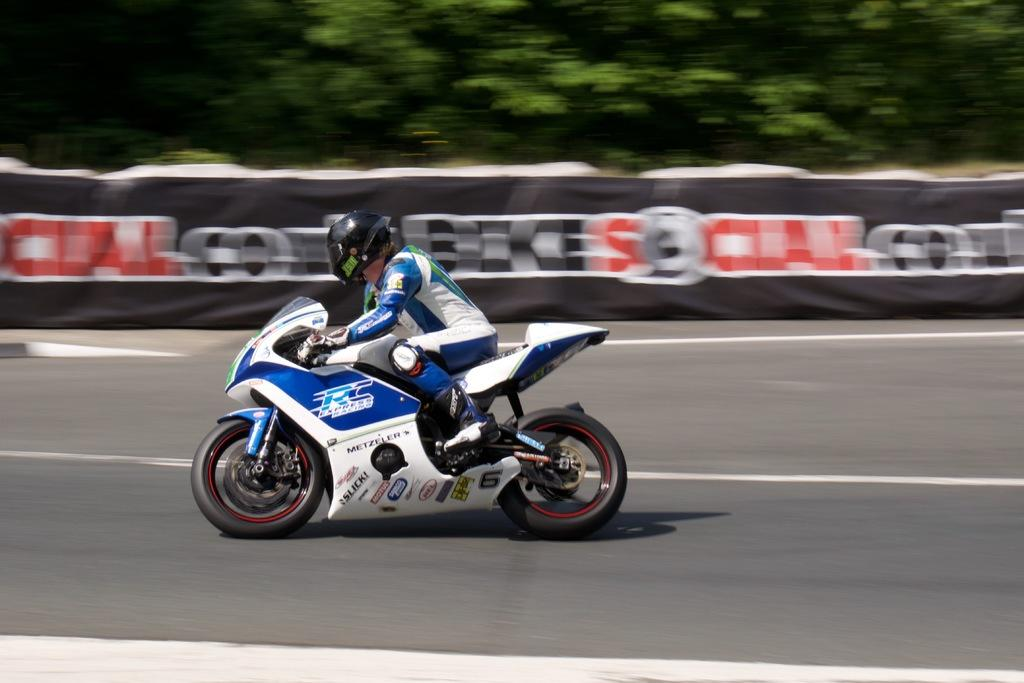helmet: (326, 208, 392, 287)
